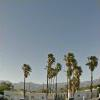Palm tree: (37, 41, 99, 87)
